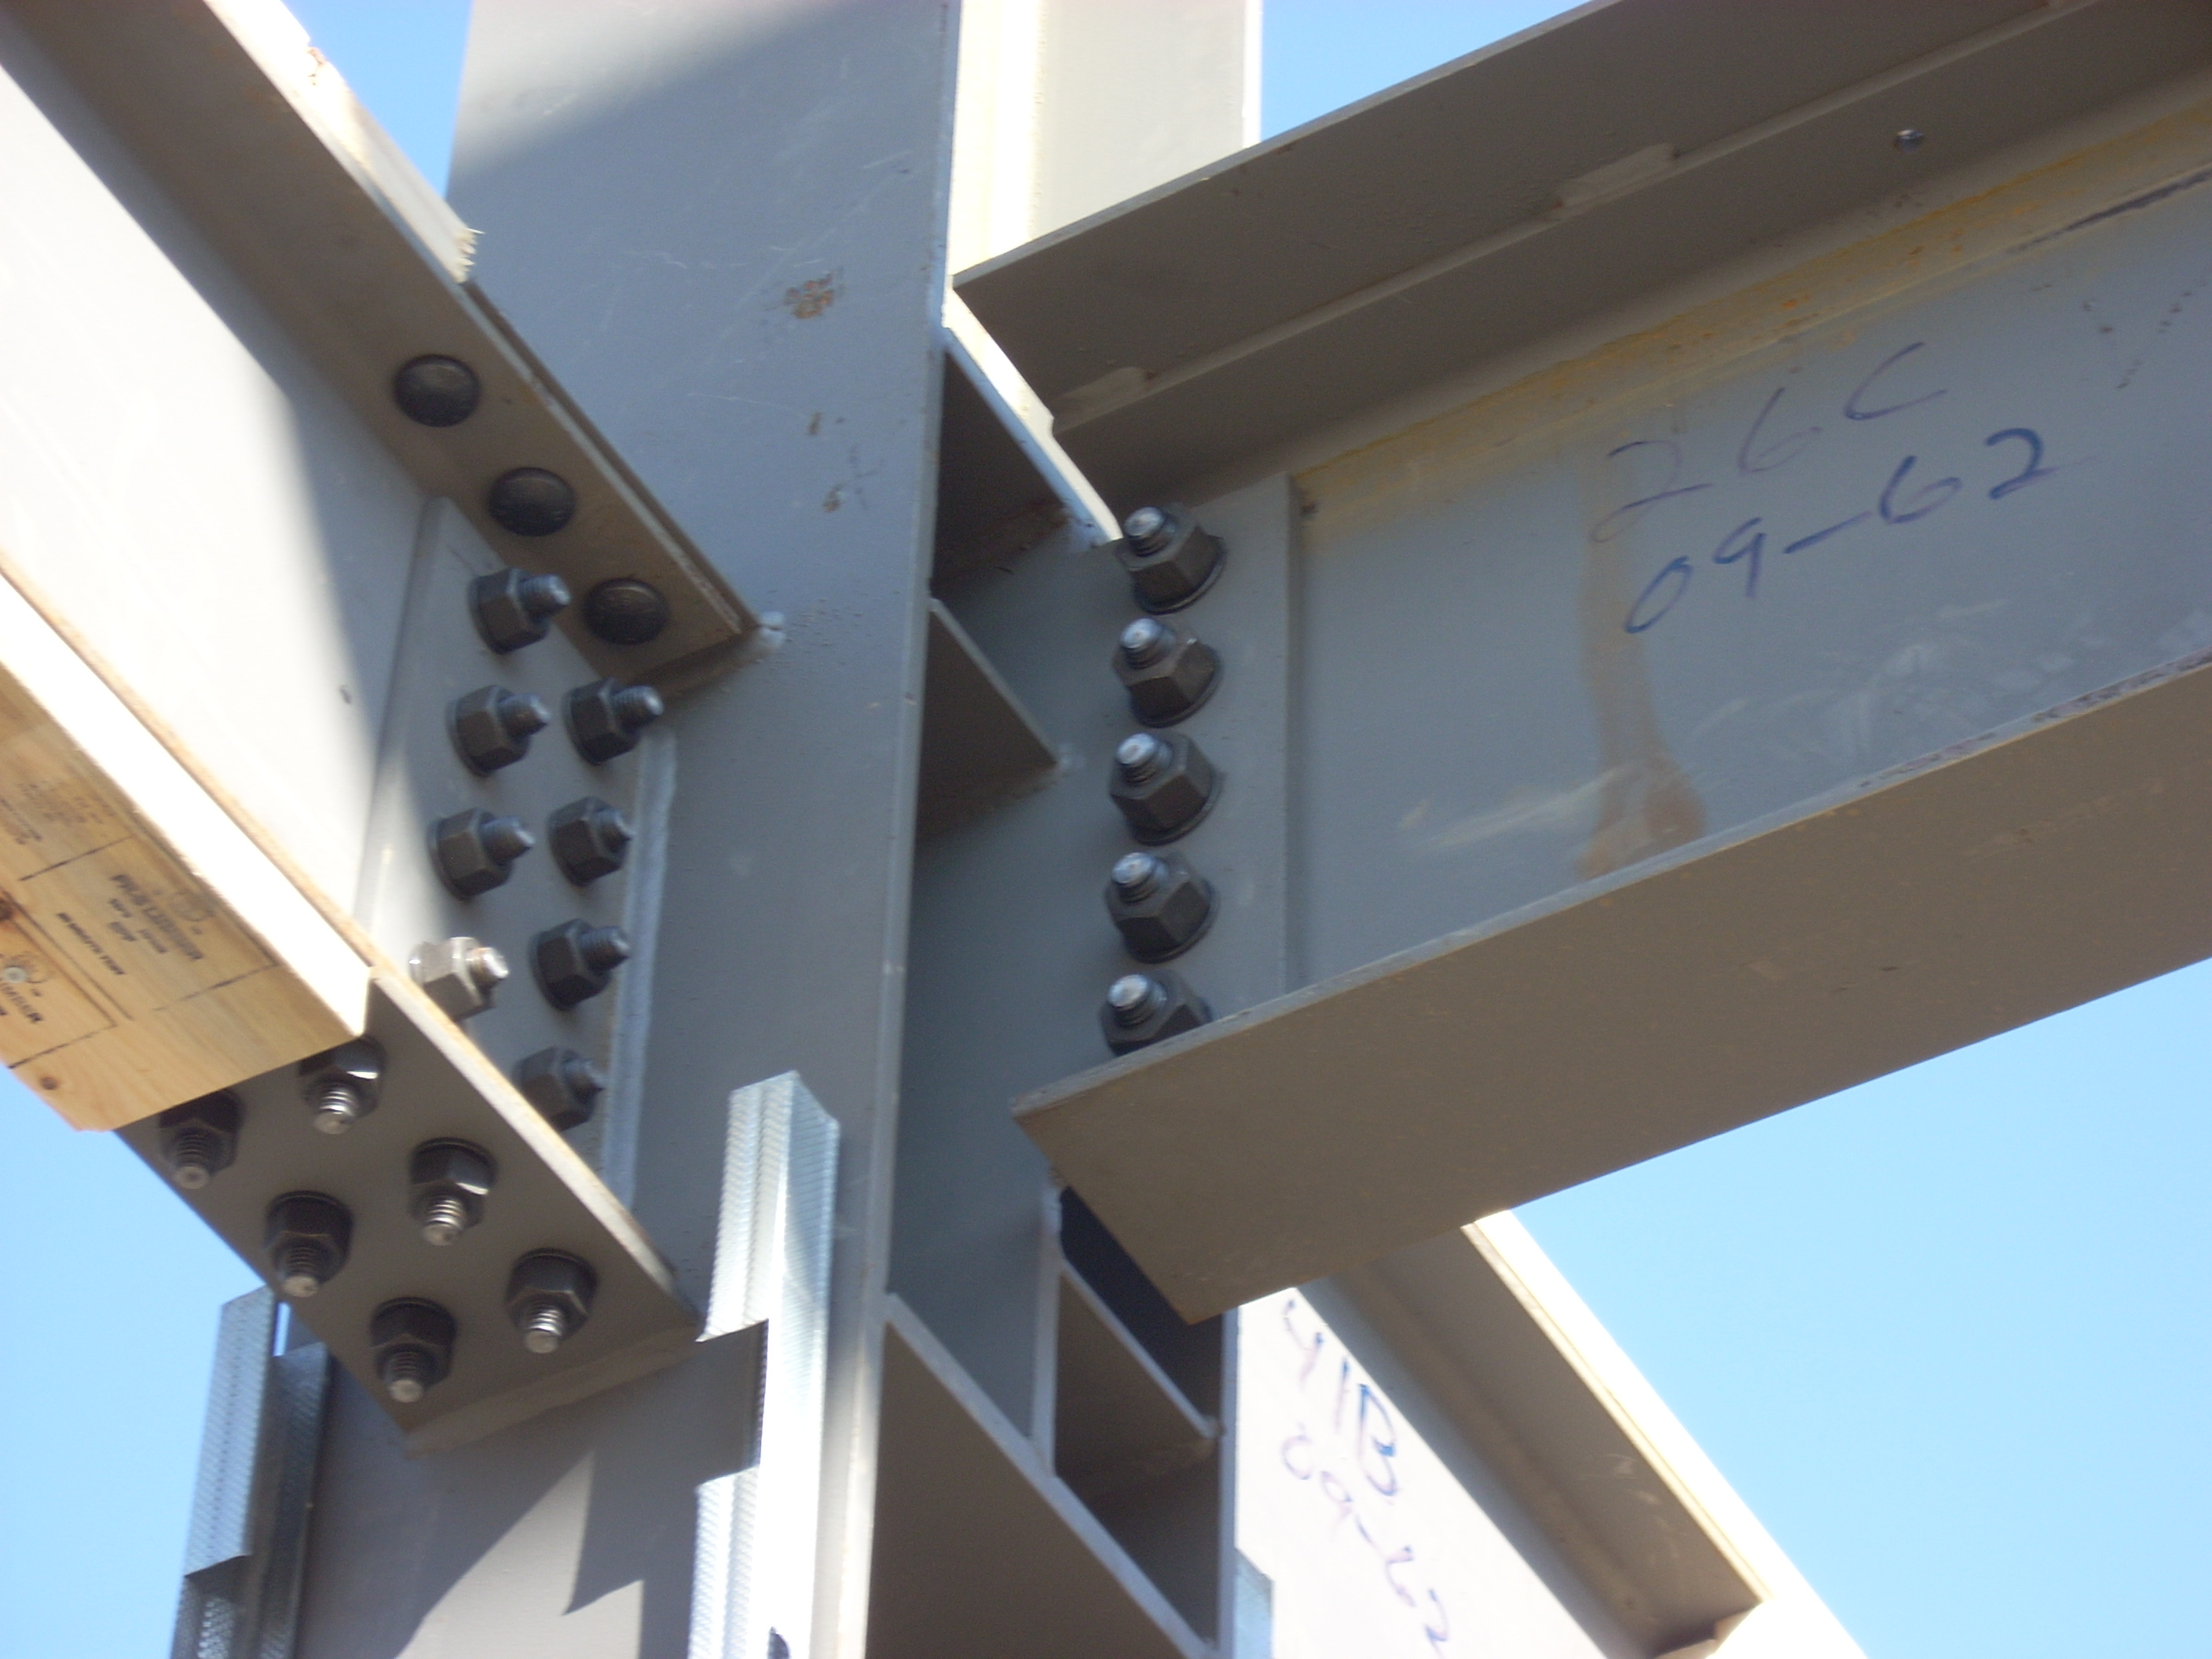bolt_b: (1094, 850, 1216, 953), (1103, 728, 1217, 836), (1104, 613, 1217, 720), (1108, 498, 1223, 599), (1090, 969, 1212, 1061), (256, 1199, 352, 1297), (395, 1141, 495, 1236), (287, 1037, 387, 1129), (361, 1304, 458, 1396), (434, 800, 519, 903), (502, 1258, 596, 1351), (448, 678, 538, 774), (467, 559, 557, 653), (148, 1094, 242, 1183), (418, 931, 505, 1026), (535, 913, 617, 1012), (554, 789, 634, 887), (570, 669, 651, 762), (517, 1042, 599, 1134)
